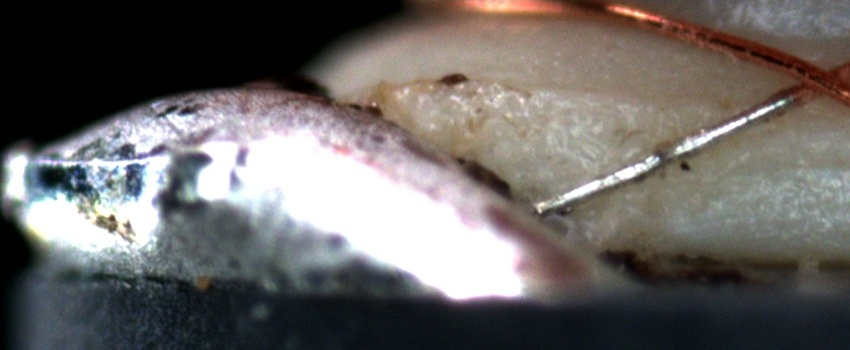CL: (774, 50, 846, 104)
DL: (729, 145, 850, 192)
TS: (534, 90, 791, 218)
